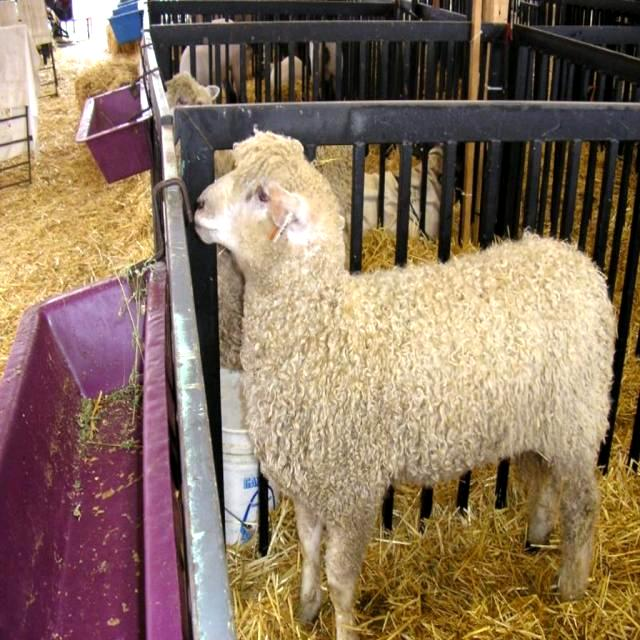sheep: (197, 133, 610, 622), (167, 75, 350, 318), (179, 44, 240, 101)
